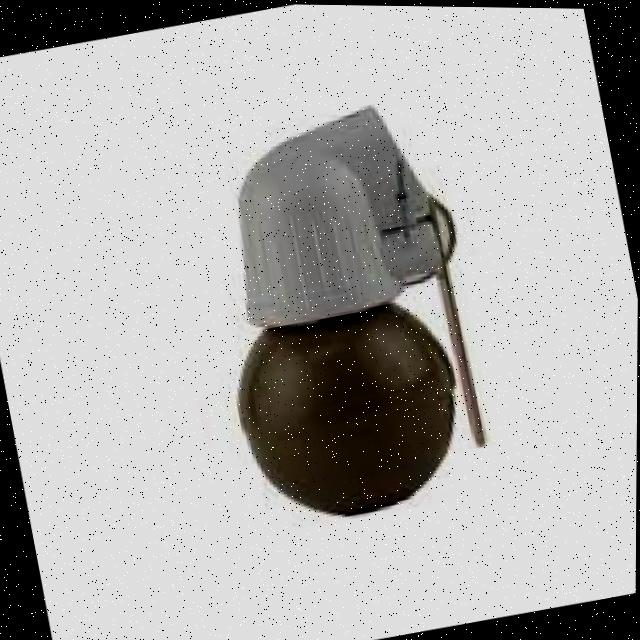grenade: (178, 78, 508, 536)
